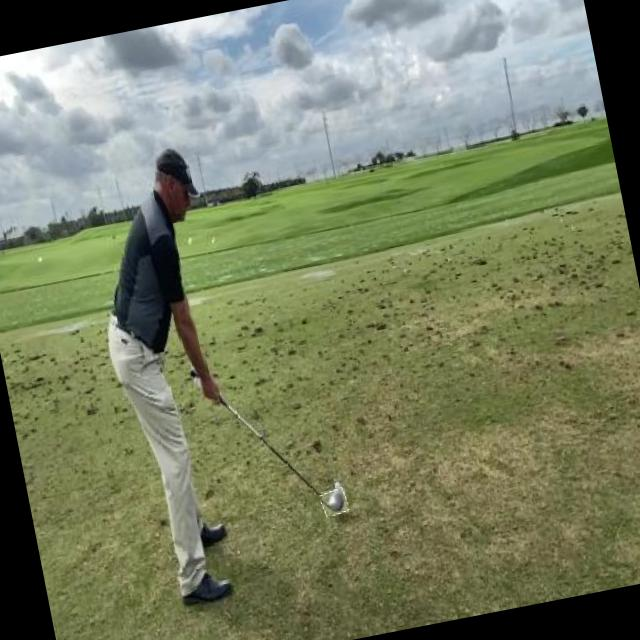club head: (320, 488, 350, 516)
